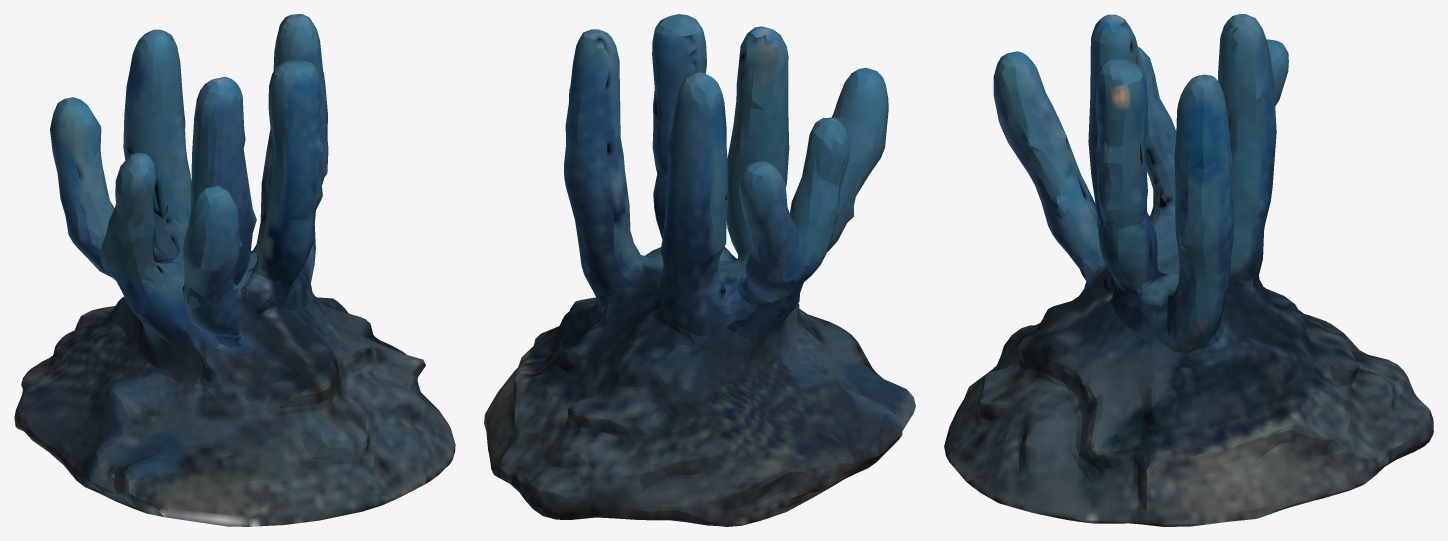
File: Plant8.glb
3 renders of one model, left to right at view 1: azimuth 30°, elevation 25°; view 2: azimuth 150°, elevation 25°; view 3: azimuth 270°, elevation 25°, orthographic. The views are drawn at different scales.
Visible parts, largest first — view 1: model.008_LOD0; view 2: model.008_LOD0; view 3: model.008_LOD0.
Boxes of the visible parts, x1,y1,x2,y2 form: model.008_LOD0: [14, 14, 455, 526]; model.008_LOD0: [484, 14, 915, 526]; model.008_LOD0: [944, 14, 1433, 526].
Size of what is drawn, in the model's own units: 0.3951 by 0.4063 by 0.4472.
Materials: 1 (1 with a texture image).
